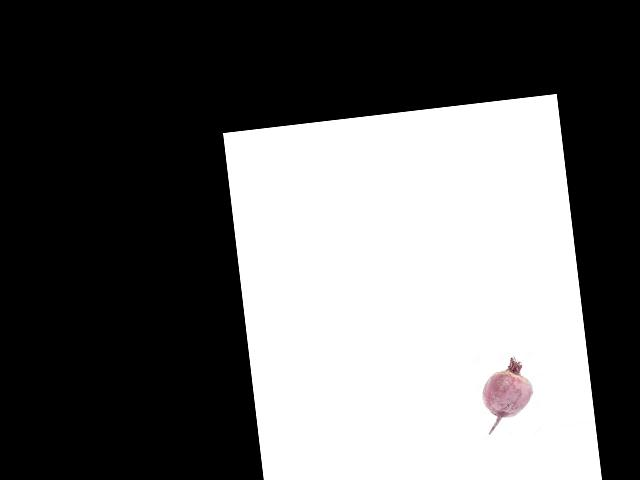beet: (478, 355, 536, 433)
